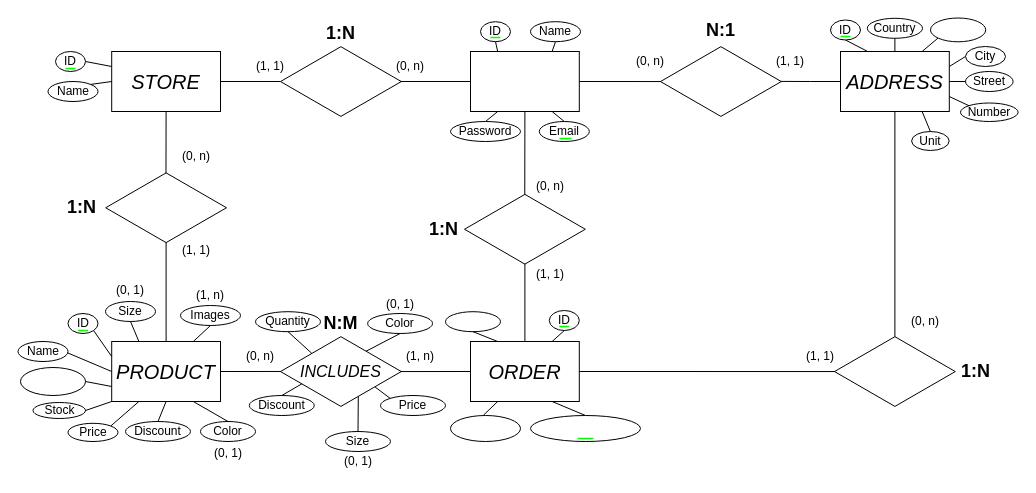
Some shapes in this 1036 by 493 pixel diagram are drawn without their labels. Each missing label, with the centre of its shape:
"CREATES" goes at point 340,81.
"Description" goes at point 53,381.
"HAS" goes at point 720,81.
"Invoice_Number" goes at point 585,428.
"MAKES" goes at point 524,229.
"Province" goes at point 958,29.
"SELLS" goes at point 165,207.
"SHIPS_TO" goes at point 894,371.
"Status" goes at point 472,321.
"Total_Price" goes at point 485,428.
"USER" goes at point 524,81.
